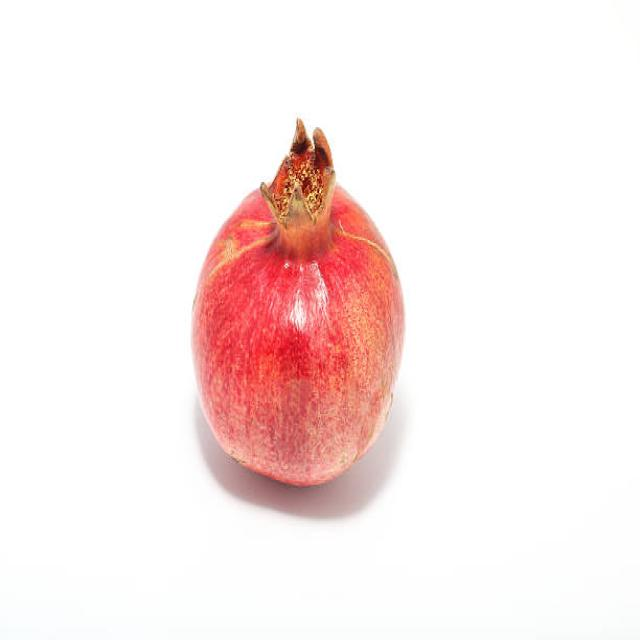Ripe: (186, 108, 410, 492)
